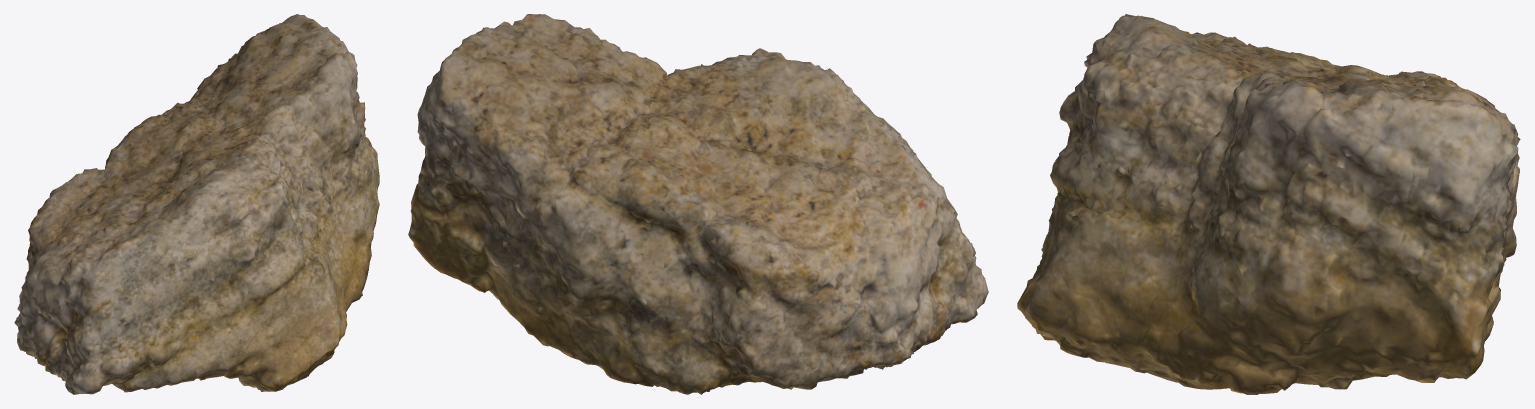
The model's file is namaqualand_rocks_01_d.glb.
3 renders of one model, left to right at view 1: azimuth 30°, elevation 25°; view 2: azimuth 150°, elevation 25°; view 3: azimuth 270°, elevation 25°, orthographic. The views are drawn at different scales.
Parts seen in each view (by area): view 1: namaqualand_rocks_01_d_LOD0; view 2: namaqualand_rocks_01_d_LOD0; view 3: namaqualand_rocks_01_d_LOD0.
Part boxes in pixels (x1,y1,x2,y2): namaqualand_rocks_01_d_LOD0: (14, 14, 379, 394); namaqualand_rocks_01_d_LOD0: (408, 14, 988, 394); namaqualand_rocks_01_d_LOD0: (1017, 14, 1520, 394).
Size of the model in its own units: 0.1995 by 0.124 by 0.1573.
Materials: 1 (1 with a texture image).
